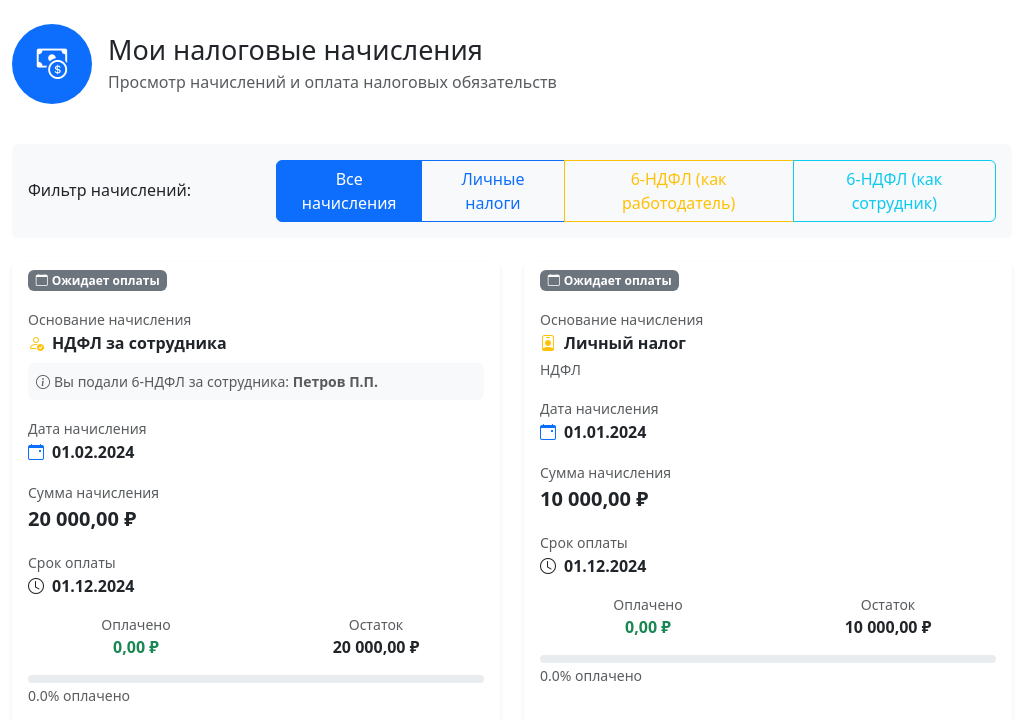
MyTaxesPage › should filter accruals by type
Expected: the text "Личный налог" is shown, [540,332,686,354]
// Фильтруем только личные налоги
Click the button "Личные налоги".
click(493, 191)  # box [421,160,565,222]
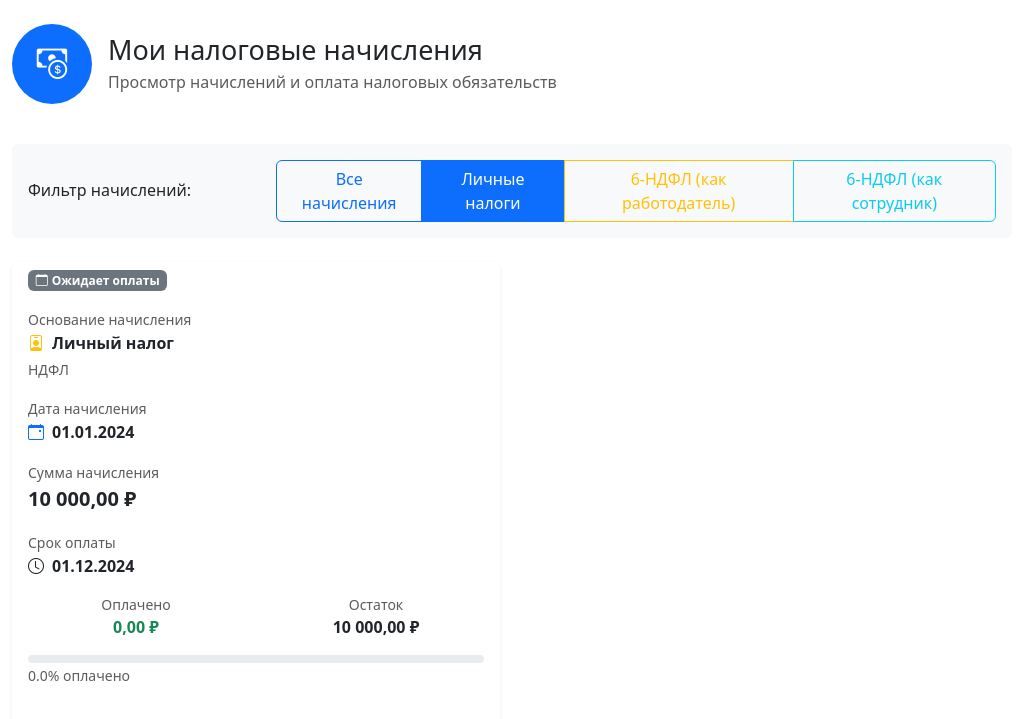
Expected: the text "Личный налог" is shown, [28,332,174,354]
Now the text "НДФЛ за сотрудника" is gone
